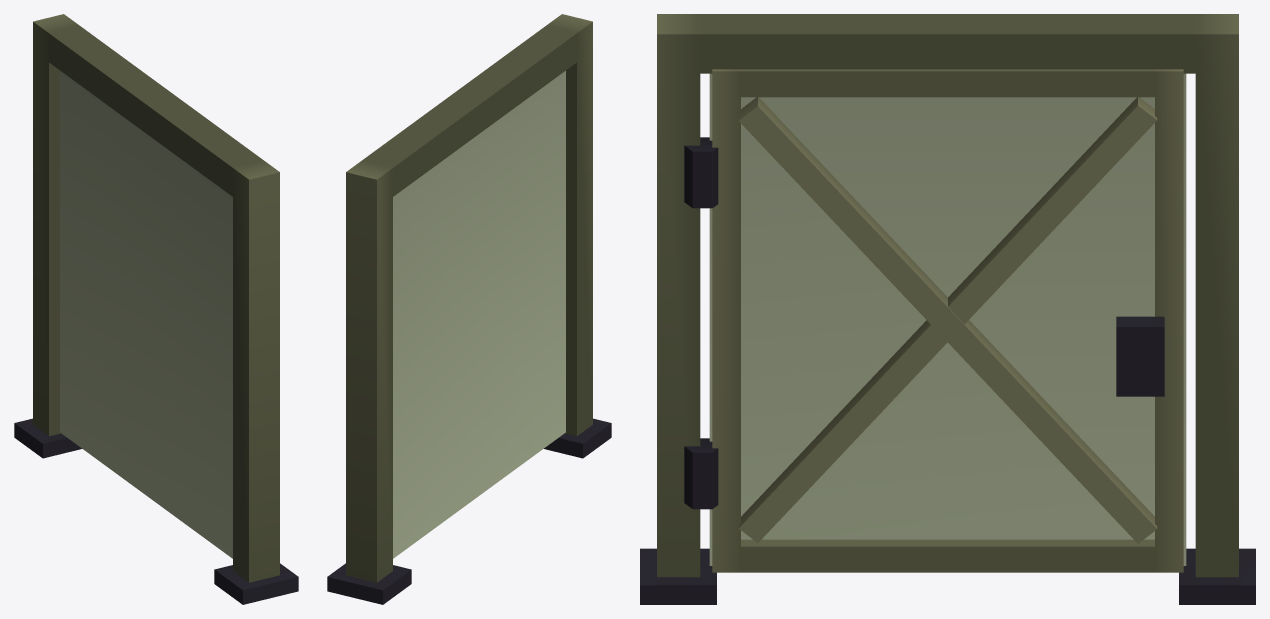
The model's file is prop.service-gate.lod2.glb.
3 renders of one model, left to right at view 1: azimuth 30°, elevation 25°; view 2: azimuth 150°, elevation 25°; view 3: azimuth 270°, elevation 25°, orthographic. The views are drawn at different scales.
Parts seen in each view (by area): view 1: gate, body; view 2: gate, body; view 3: gate, body.
Part boxes in pixels (x1,y1,x2,y2): gate: (60,71,232,558); body: (14,14,298,604); gate: (393,71,565,558); body: (327,14,611,604); gate: (684,69,1186,572); body: (640,14,1255,604).
Size of the model in its own units: 0.435 by 2.58 by 2.56.
